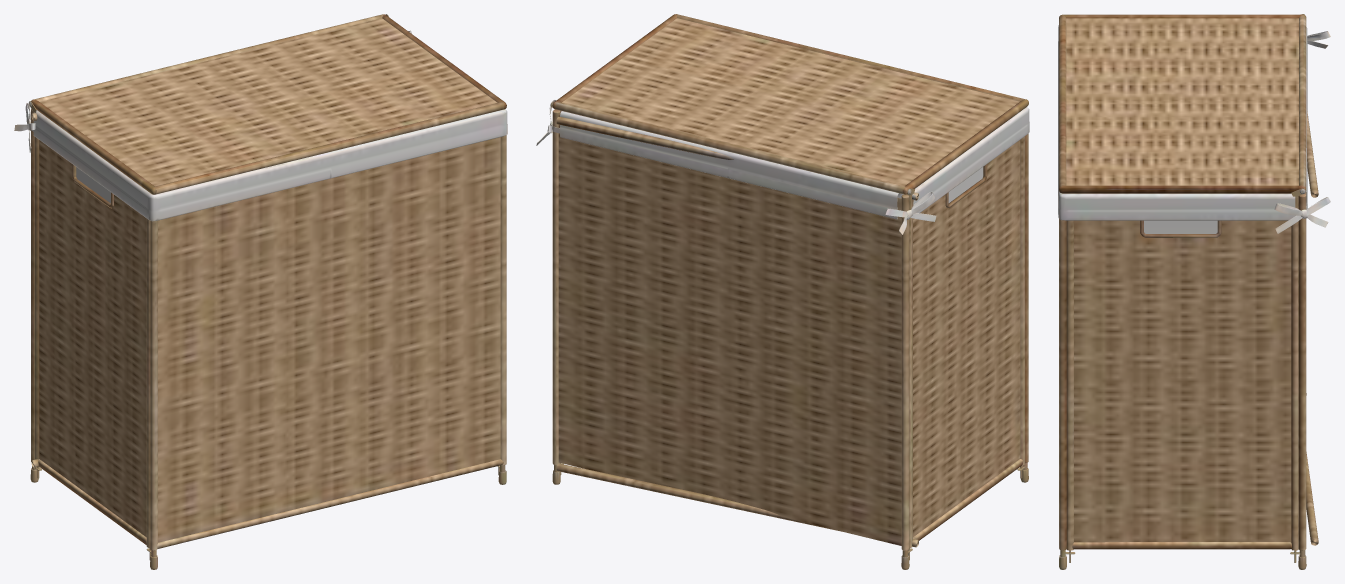
File: LB-BR-HAMPER-02.glb
The picture shows the model from 3 angles, left to right: view 1: azimuth 30°, elevation 25°; view 2: azimuth 150°, elevation 25°; view 3: azimuth 270°, elevation 25°; orthographic projection.
Visible parts, largest first — view 1: Mesh_0; view 2: Mesh_0; view 3: Mesh_0.
Boxes of the visible parts, bbox=[...] form: Mesh_0: bbox=[14, 14, 507, 569]; Mesh_0: bbox=[536, 14, 1029, 569]; Mesh_0: bbox=[1058, 14, 1330, 569].
Size of the model in its own units: 0.6428 by 0.6104 by 0.3944.
1 material, 1 textured.
